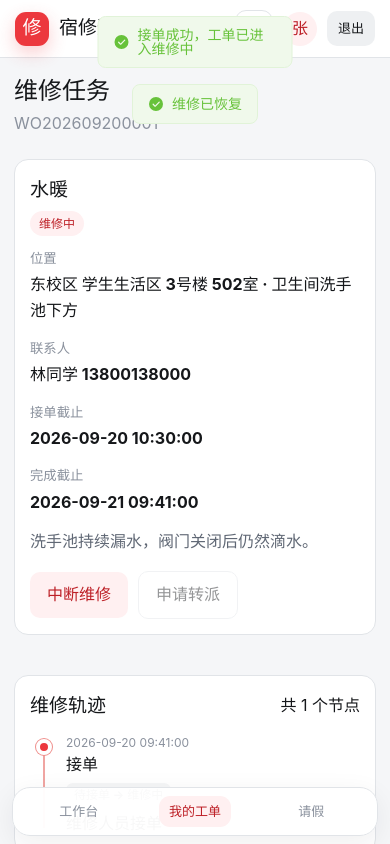
Scenario: 维修人员工单详情 › 中断弹窗校验说明必填
Step 1. Click the button with class "danger" → (79, 595), box [30,572,128,618]
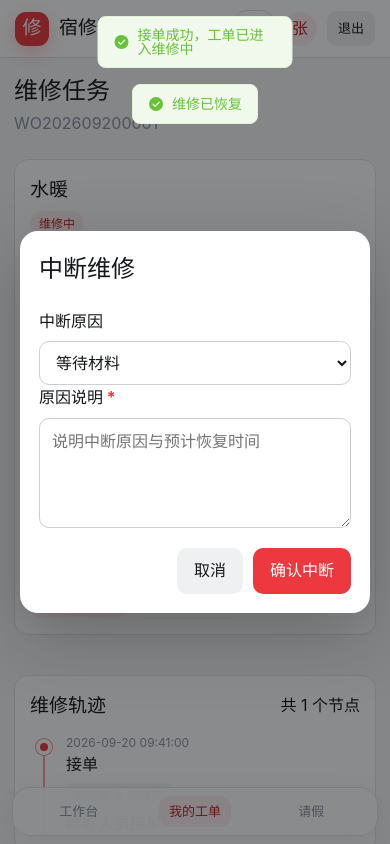
Step 2. Click the button "确认中断" → (302, 571), box [253,548,351,594]
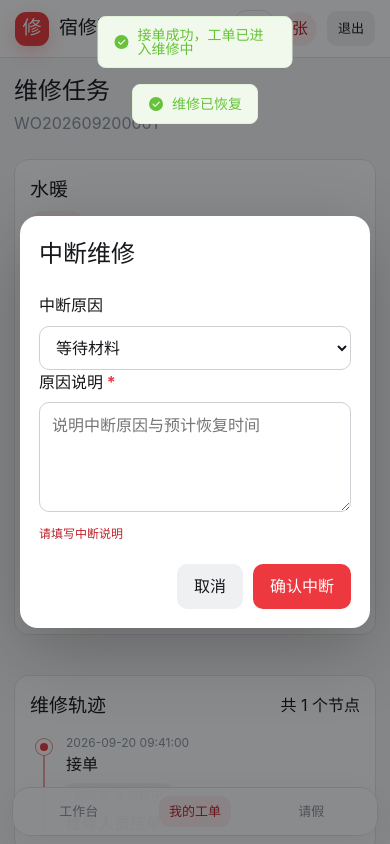
Now the dialog shows "请填写中断说明", box [39,526,123,541]
